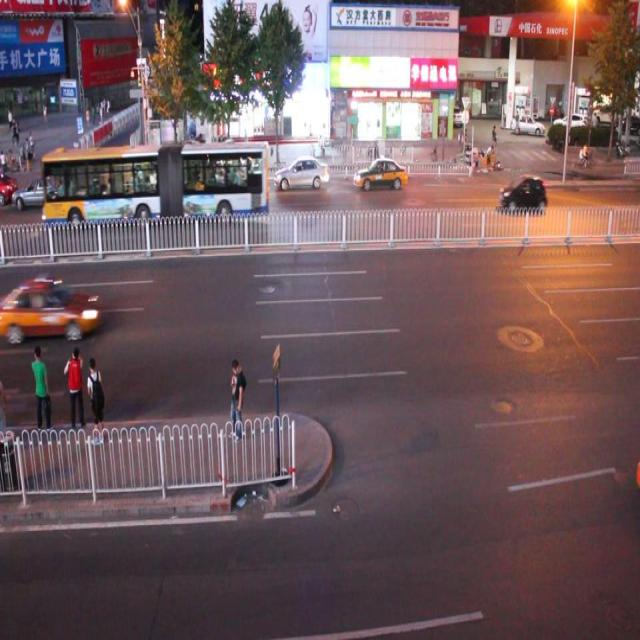car: (41, 141, 270, 228), (9, 271, 100, 343), (497, 173, 546, 215), (352, 154, 406, 192), (274, 156, 329, 191), (185, 157, 232, 196), (12, 176, 66, 208), (1, 167, 17, 208)
